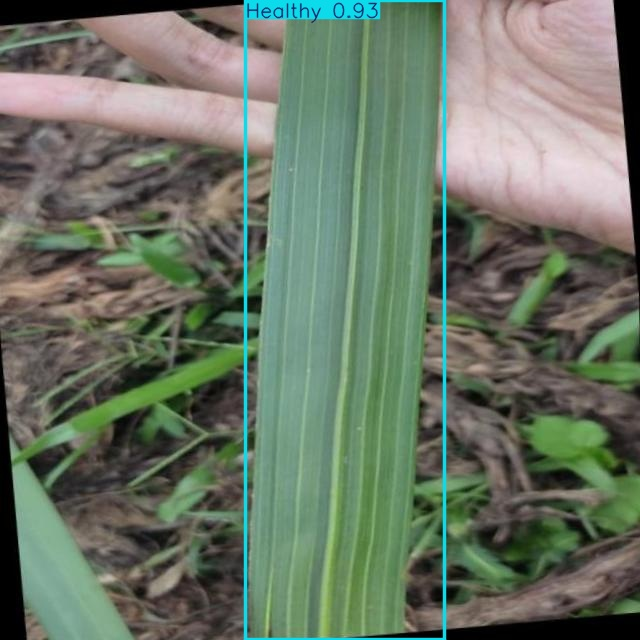Healthy: (246, 0, 444, 640)
